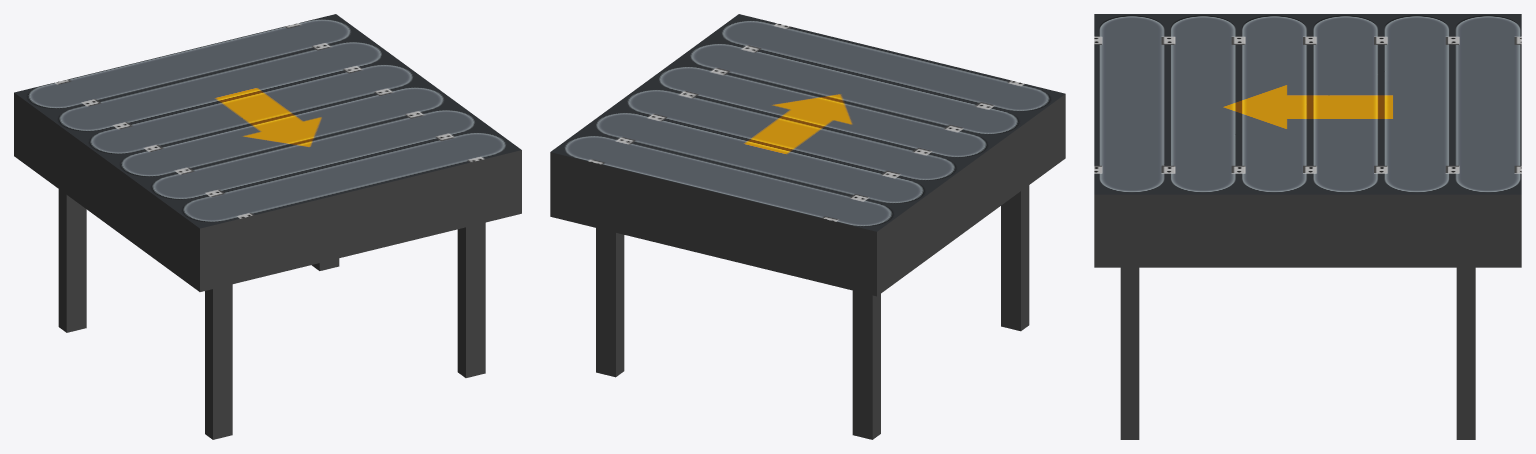
Rendered from Belt_Straigh.fbx.
3 views of the same model, side by side, from view 1: azimuth 30°, elevation 25°; view 2: azimuth 150°, elevation 25°; view 3: azimuth 270°, elevation 25° (orthographic). The views are drawn at different scales.
Parts seen in each view (by area): view 1: Belt_Straigh; view 2: Belt_Straigh; view 3: Belt_Straigh.
Part boxes in pixels (box(x1,y1,x2,y2)): Belt_Straigh: box(14, 14, 521, 439); Belt_Straigh: box(550, 14, 1065, 439); Belt_Straigh: box(1094, 14, 1521, 439).
Size of the model in its own units: 1 by 0.6699 by 1.
